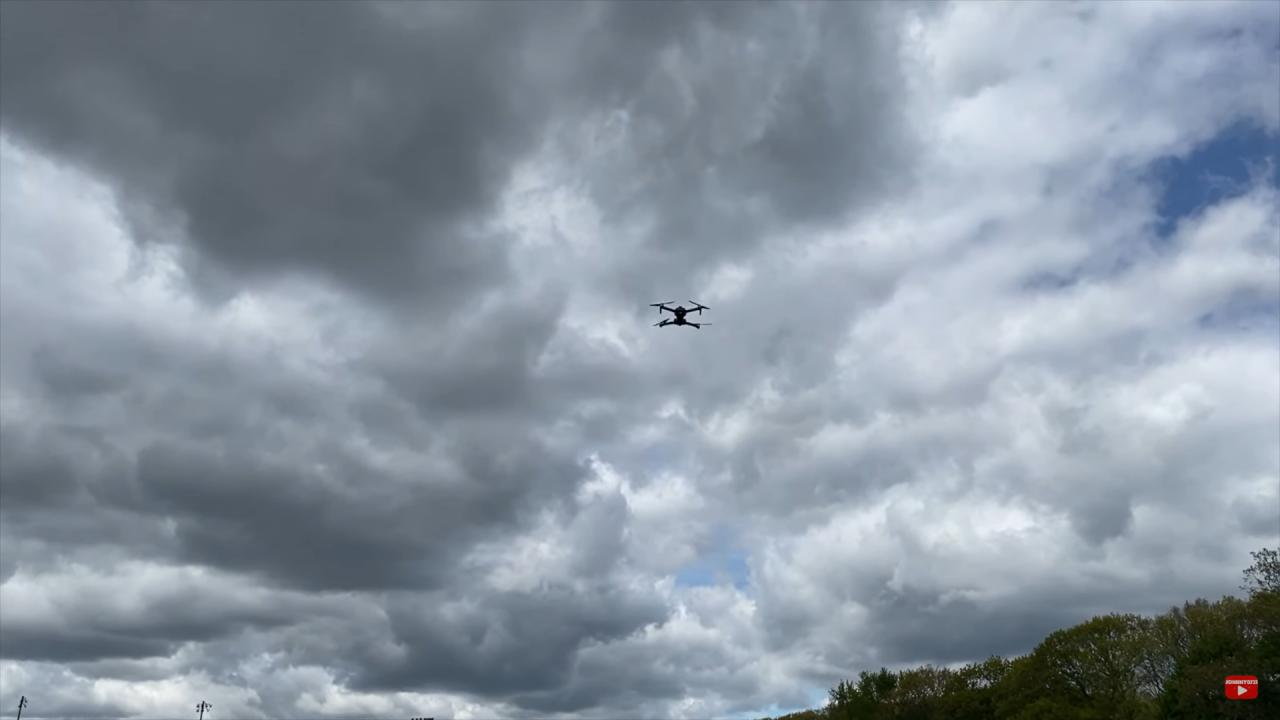Drone: (641, 286, 723, 339)
